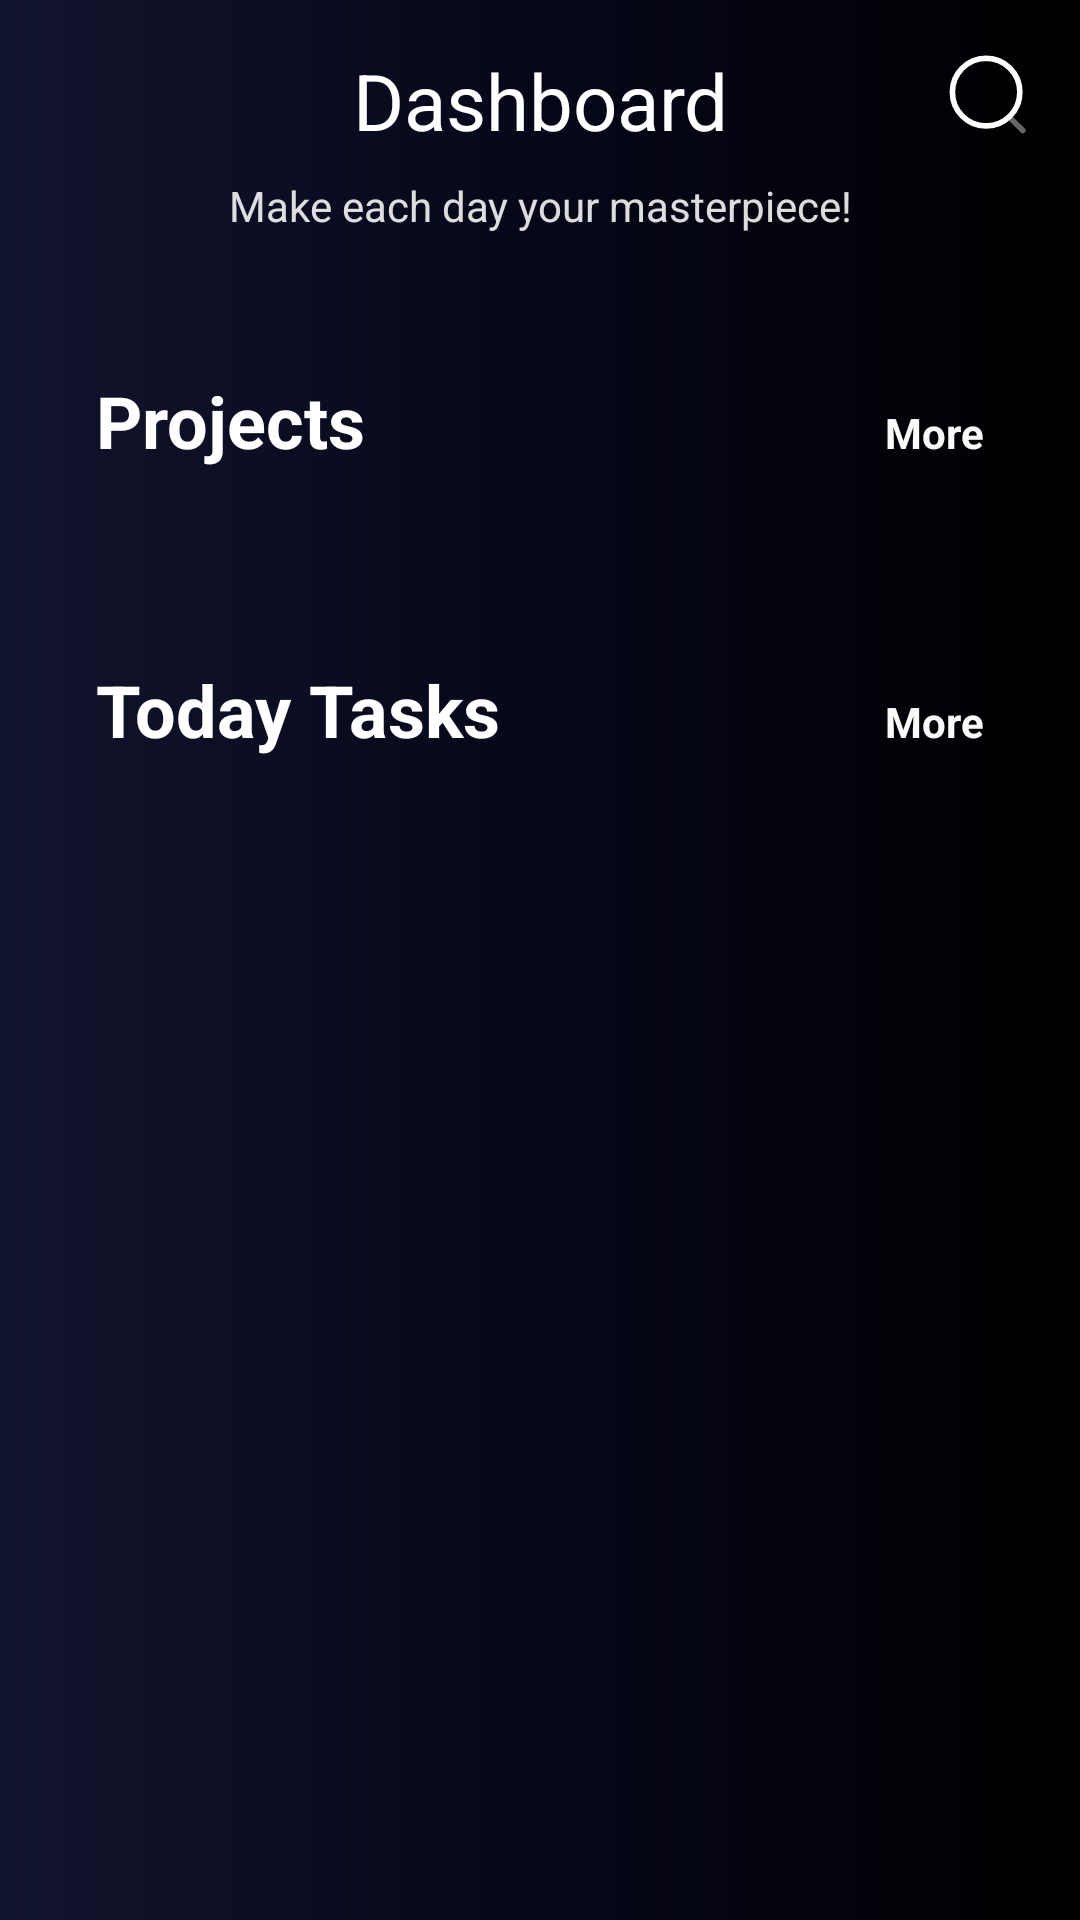

Screen size 1080*1920. Icon name, then its box in pixels as bbox(x1, y1, x2, y2):
search: bbox(949, 55, 1026, 134)
